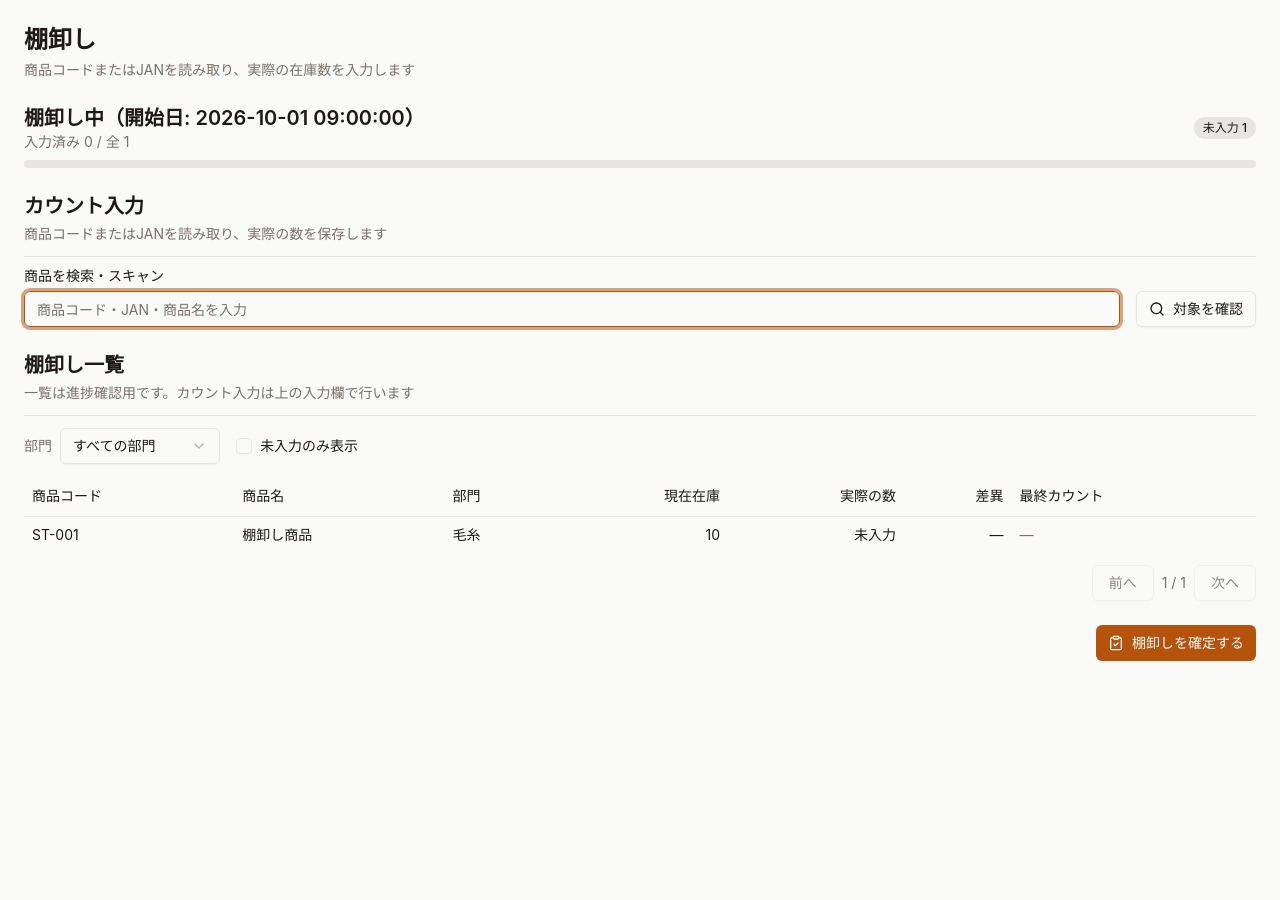
Test case: StocktakePage ProductAddSuggest (UI-10-D12) › W8: activeなしEnterは既存resolveItem経路を実行する
The width and height of the screenshot is (1280, 900).
In the dropdown labelled "商品を検索・スキャン": (572, 309) [24,291,1120,327], type "ST-E1"
Then press Enter
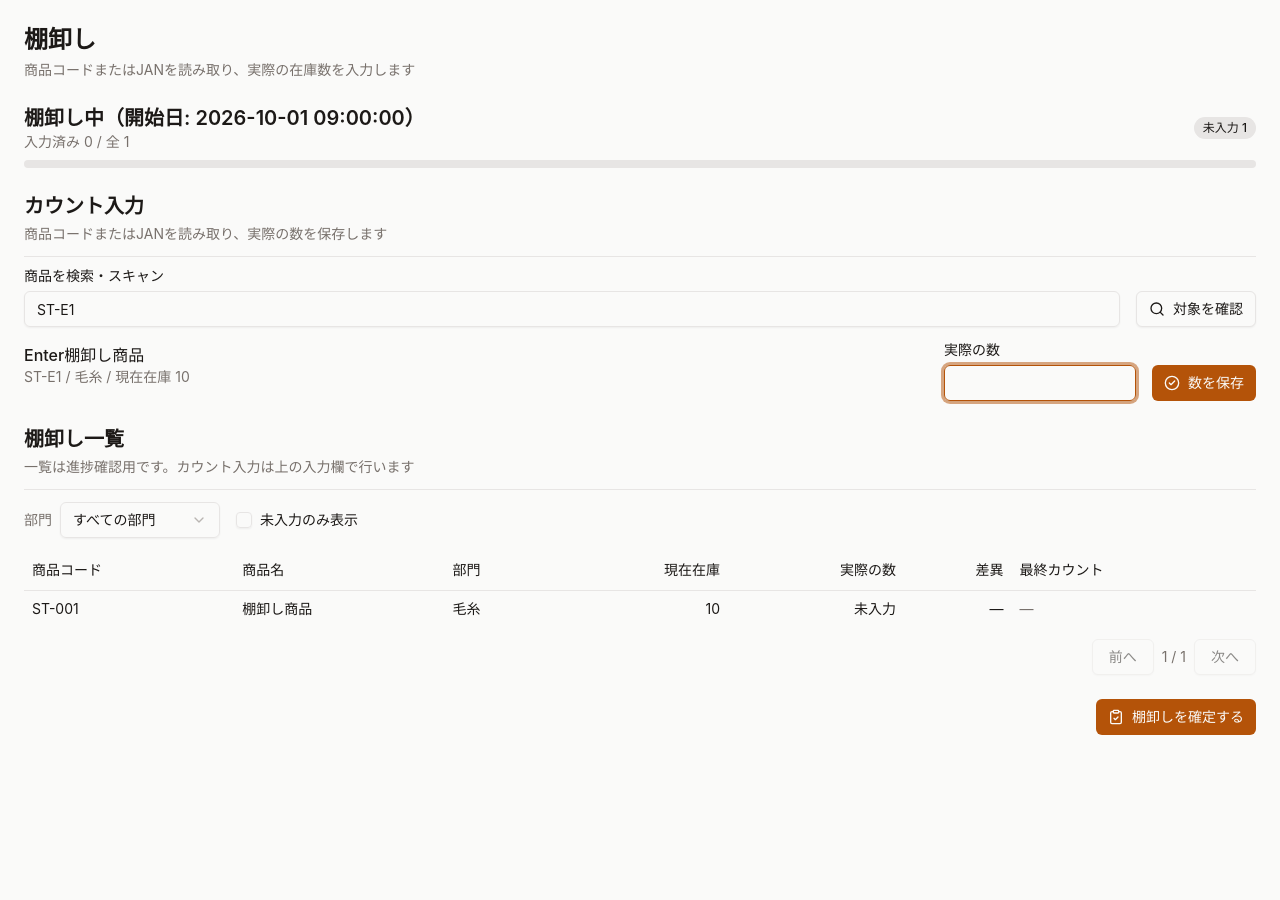
Expected: the text "Enter棚卸し商品" is shown, [24,345,144,365]
